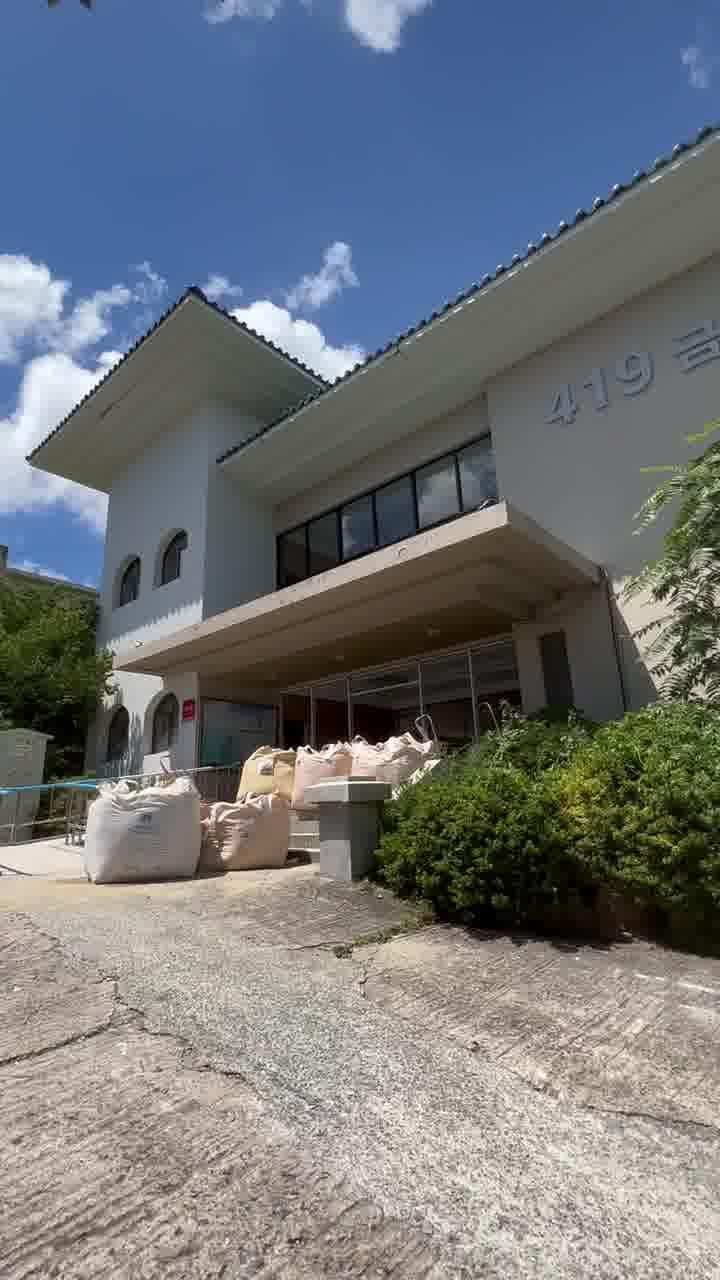building: (90, 224, 684, 712)
